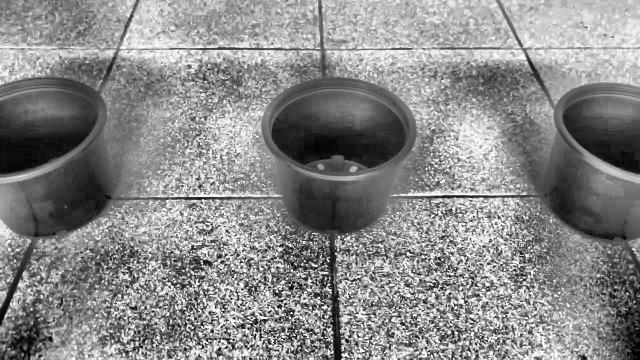pot: (262, 78, 417, 234), (0, 78, 115, 238), (541, 83, 640, 241)
